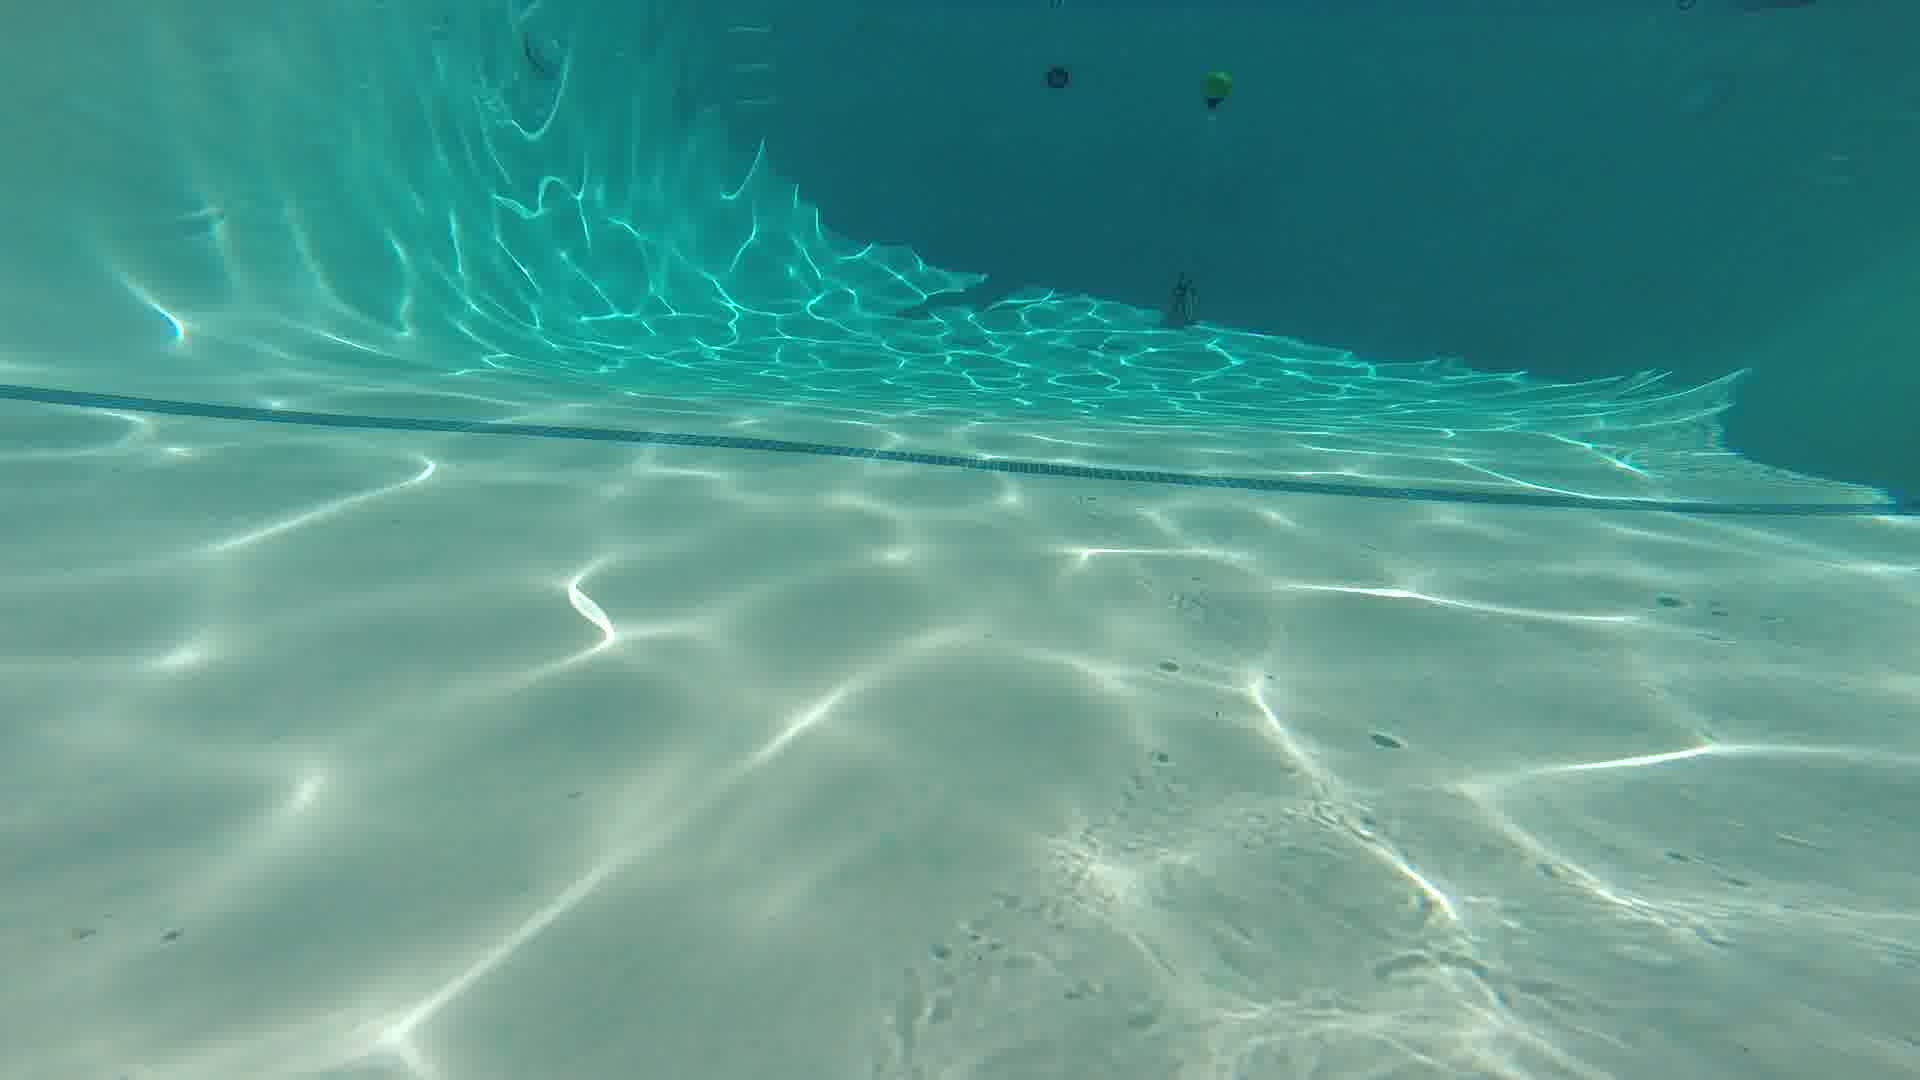yellow_buoy: (1201, 70, 1229, 107)
